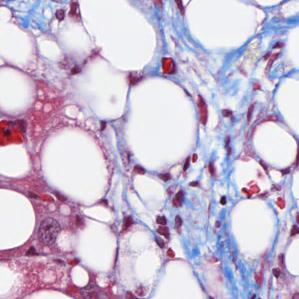inflammation: (155, 169, 203, 209)
